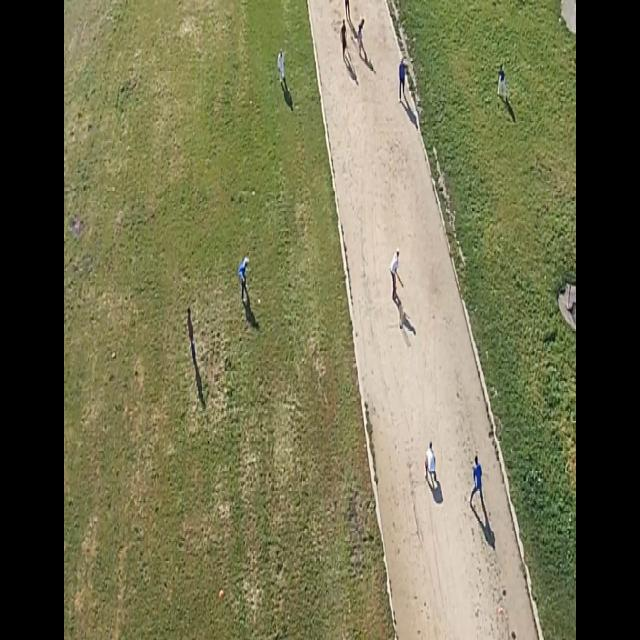humans: (468, 449, 489, 525), (419, 437, 439, 492), (234, 246, 252, 304), (275, 43, 290, 101), (389, 242, 403, 304), (495, 54, 510, 109), (184, 303, 195, 357), (357, 12, 368, 66), (398, 53, 409, 105), (340, 17, 350, 65)
